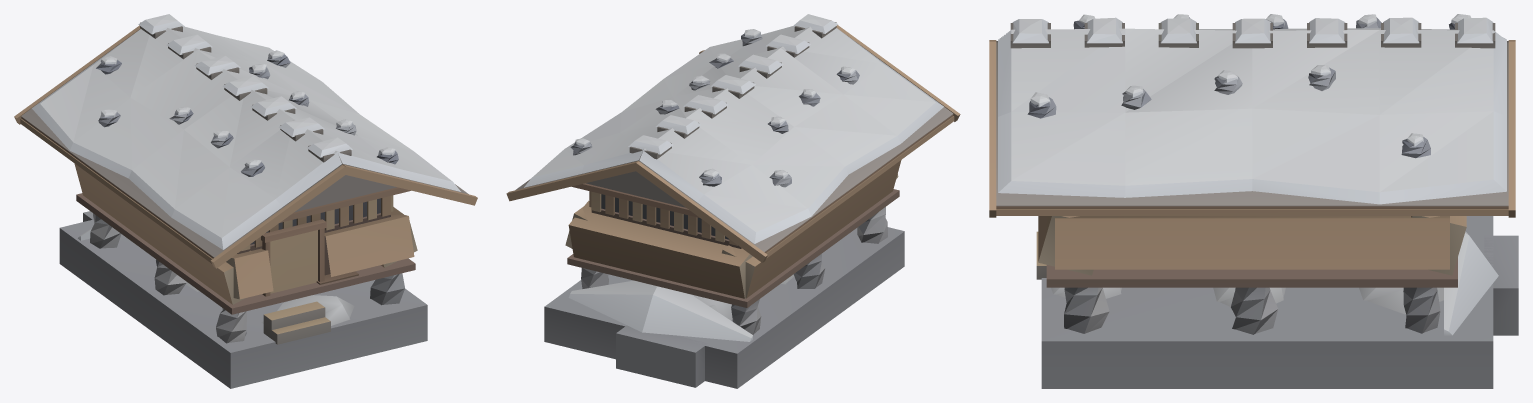
Rendered from barn.lod1.glb.
The picture shows the model from 3 angles, left to right: view 1: azimuth 30°, elevation 25°; view 2: azimuth 150°, elevation 25°; view 3: azimuth 270°, elevation 25°; orthographic projection. The views are drawn at different scales.
Size of the model in its own units: 8 by 6.53 by 10.5.
